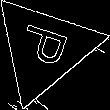P_E: (13, 23, 75, 74)
